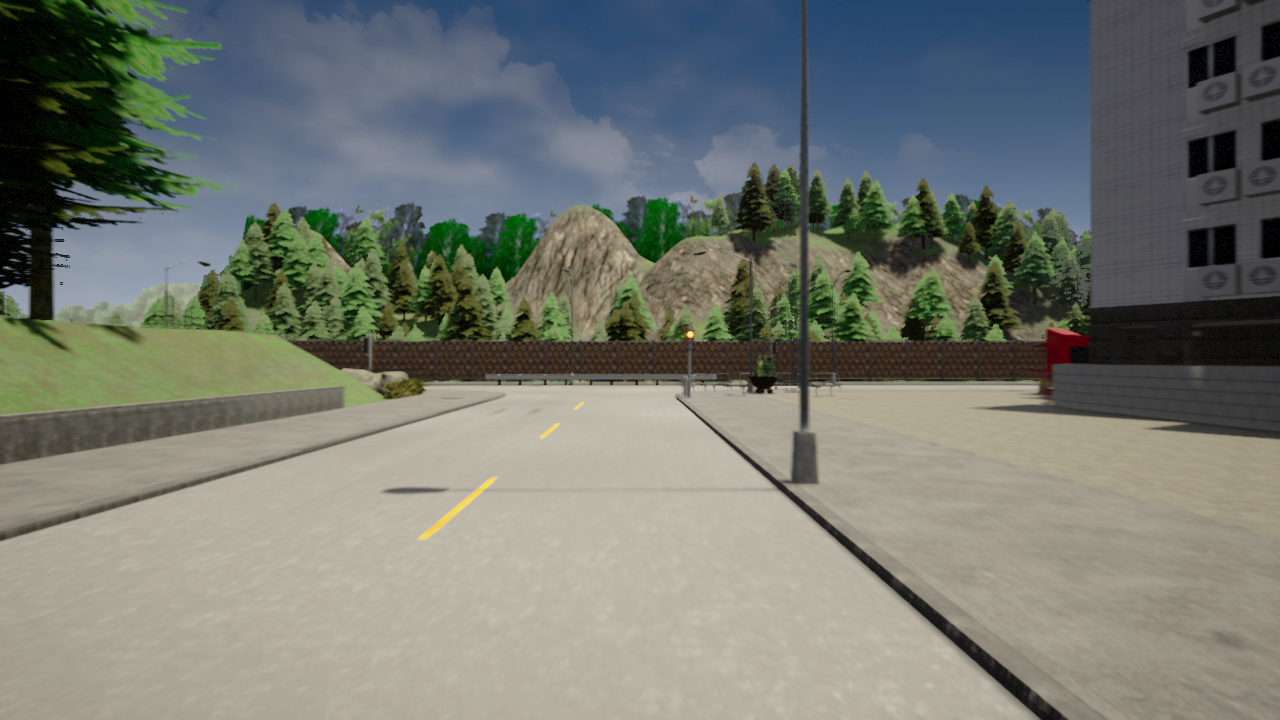red: (685, 328, 695, 351)
